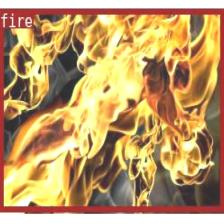fire: (0, 7, 223, 210)
